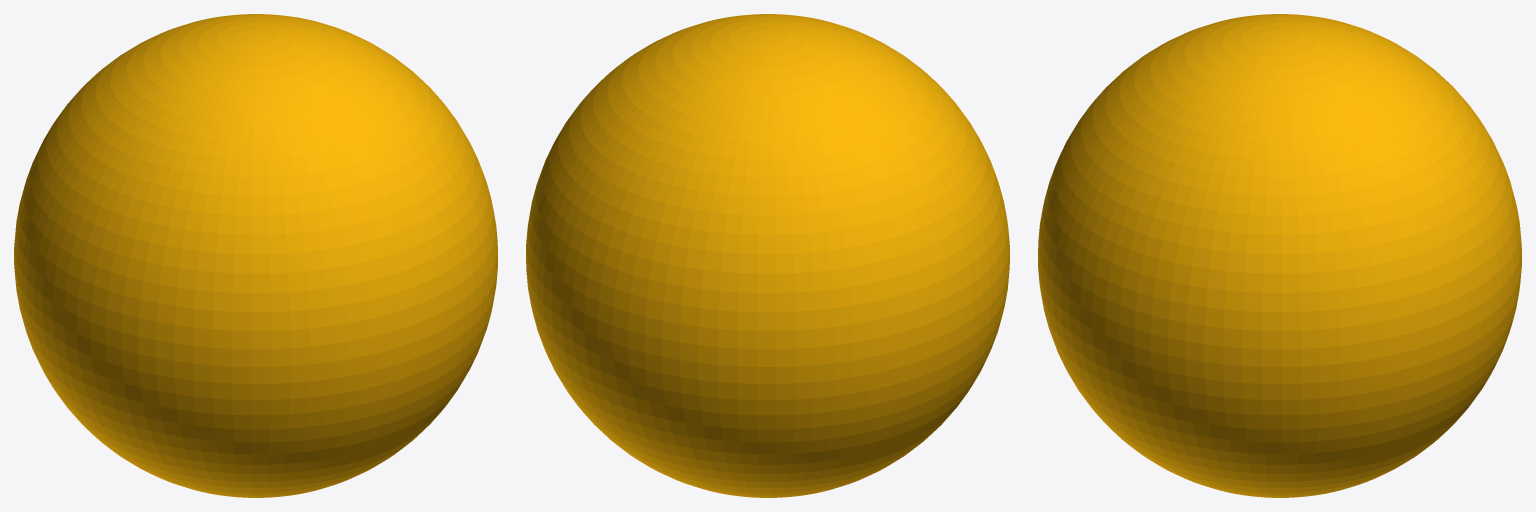
3 views of the same model, side by side, from view 1: azimuth 30°, elevation 25°; view 2: azimuth 150°, elevation 25°; view 3: azimuth 270°, elevation 25° (orthographic).
Parts seen in each view (by area): view 1: Esfera 15mm - Sphere; view 2: Esfera 15mm - Sphere; view 3: Esfera 15mm - Sphere.
Part boxes in pixels (left/top/right/bottom): Esfera 15mm - Sphere: left=14, top=14, right=497, bottom=497; Esfera 15mm - Sphere: left=526, top=14, right=1009, bottom=497; Esfera 15mm - Sphere: left=1038, top=14, right=1521, bottom=497.
Bounding box in the file's own units: 0.02 × 0.02 × 0.02.
